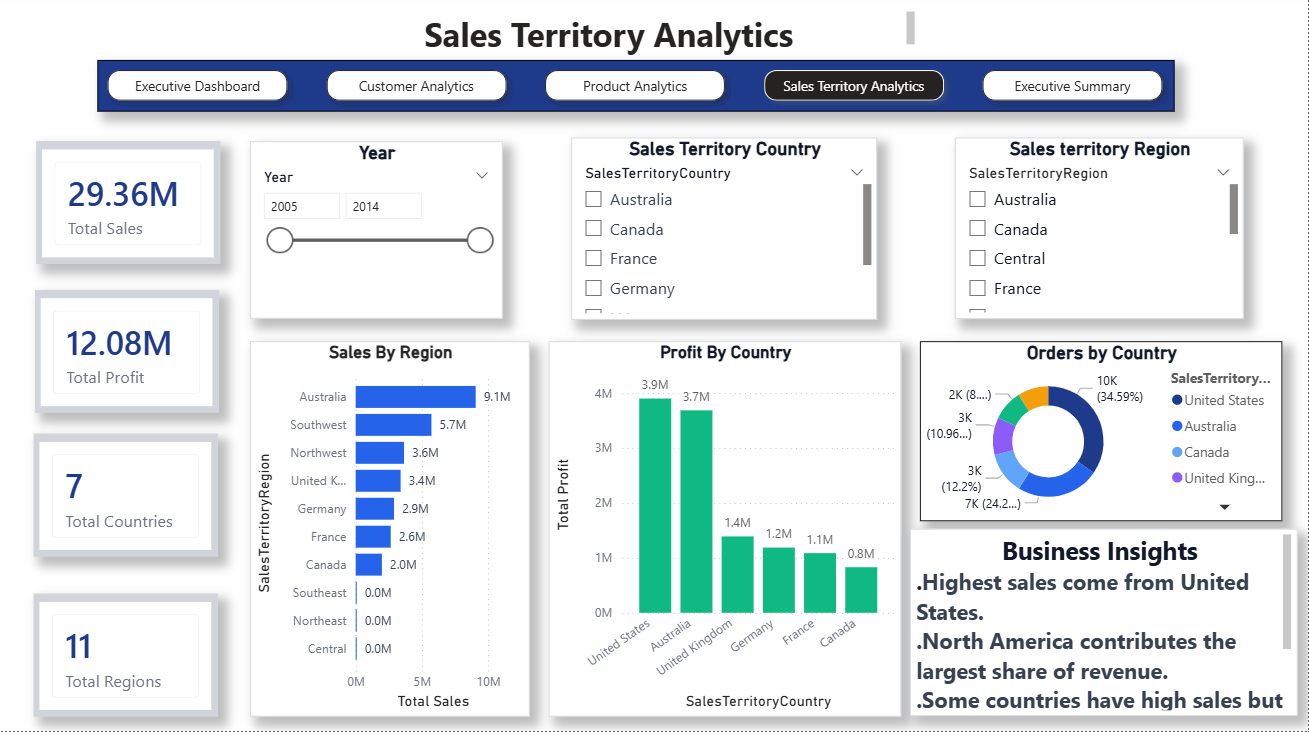

Layout of this report page (visuals, bound fields, positions):
{"tool":"powerbi","page":{"name":"Sales Territory Analytics","canvas":[1280,720],"ordinal":3},"visuals":[{"type":"textbox","box":[300,10,600,55],"z":0},{"type":"cardVisual","fields":{"Data":["Measuress.Total Sales"]},"box":[35,143.3,180,120],"z":1000},{"type":"cardVisual","fields":{"Data":["Measuress.Total Profit"]},"box":[34.2,288.6,180,120],"z":2000},{"type":"cardVisual","fields":{"Data":["Measuress.Total Countries"]},"box":[33,429.2,180,120],"z":3000},{"type":"cardVisual","fields":{"Data":["Measuress.Total Regions"]},"box":[33,585.7,180,120],"z":4000},{"type":"clusteredBarChart","title":"Sales By Region","fields":{"Category":["SalesTerritory.SalesTerritoryRegion"],"Y":["Measuress.Total Sales"]},"box":[244.6,338.7,273.9,366.8],"z":5000},{"type":"clusteredColumnChart","title":"Profit By Country","fields":{"Category":["SalesTerritory.SalesTerritoryCountry"],"Y":["Measuress.Total Profit"]},"box":[536.8,338.7,344.8,366.8],"z":6000},{"type":"donutChart","title":"Orders by Country","fields":{"Category":["SalesTerritory.SalesTerritoryCountry"],"Y":["Measuress.Total Orders"]},"box":[900,338.7,354.6,176.1],"z":7000},{"type":"slicer","title":"Year","fields":{"Values":["Date.Year"]},"box":[244.6,143.1,247,173.6],"z":8000},{"type":"slicer","title":"Sales Territory Country","fields":{"Values":["SalesTerritory.SalesTerritoryCountry"]},"box":[558.8,139.4,299.6,178.5],"z":9000},{"type":"slicer","title":"Sales territory Region","fields":{"Values":["SalesTerritory.SalesTerritoryRegion"]},"box":[934.2,139.4,282.5,177.3],"z":11000},{"type":"textbox","box":[890.2,522.1,379.1,183.4],"z":12000},{"type":"pageNavigator","box":[95,63.3,1053.3,50],"z":13000}]}

Visuals, with their boxes in screenshot pixels (x1, y1, x2, y2), scaled from the page's 1280x720 canvas onto the 1309x732 screenshot:
textbox: 307 10 920 66
cardVisual - Measuress.Total Sales: 36 146 220 268
cardVisual - Measuress.Total Profit: 35 293 219 415
cardVisual - Measuress.Total Countries: 34 436 218 558
cardVisual - Measuress.Total Regions: 34 595 218 717
"Sales By Region" clusteredBarChart: 250 344 530 717
"Profit By Country" clusteredColumnChart: 549 344 902 717
"Orders by Country" donutChart: 920 344 1283 523
"Year" slicer: 250 145 503 322
"Sales Territory Country" slicer: 571 142 878 323
"Sales territory Region" slicer: 955 142 1244 322
textbox: 910 531 1298 717
pageNavigator: 97 64 1174 115
